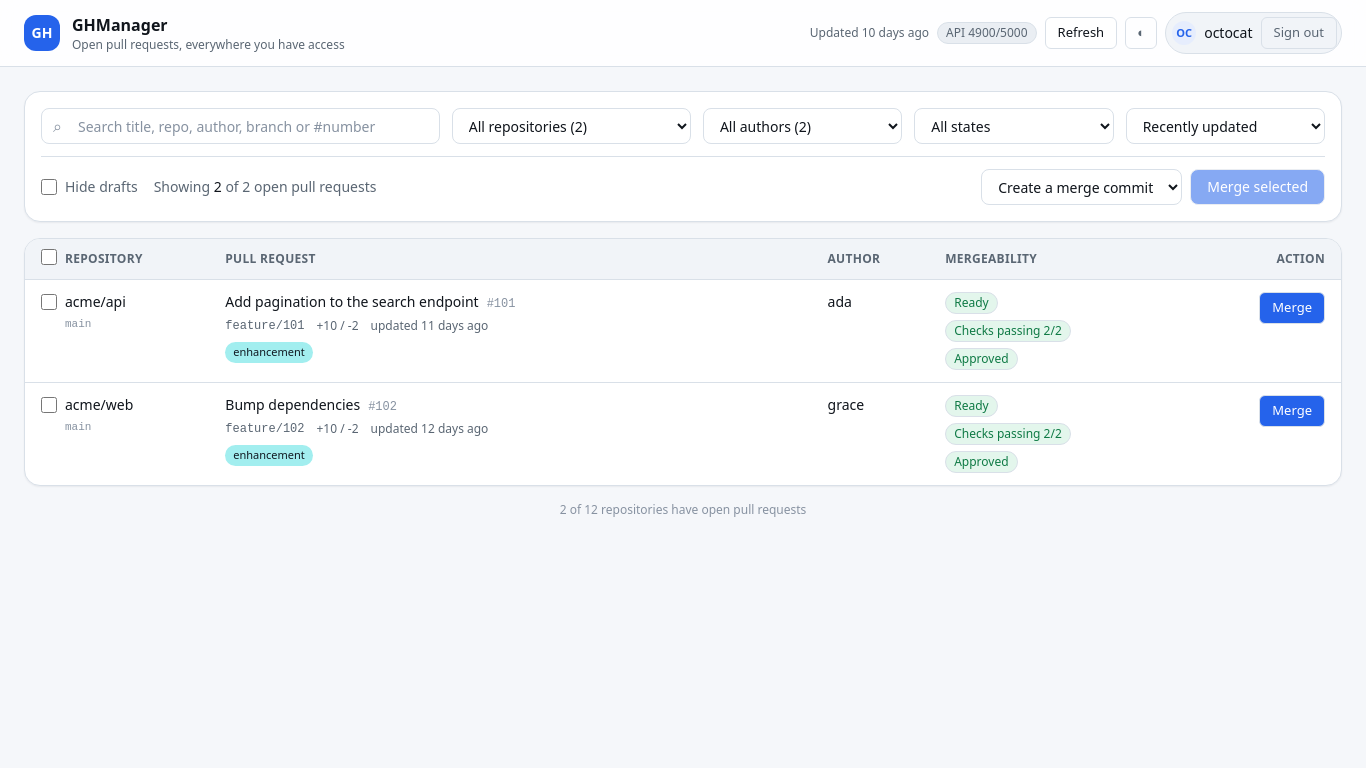
Scenario: Dashboard bulk merge › removes merged rows immediately and keeps them out of a stale refresh
The image size is (1366, 768).
Check: the table is shown, box [25, 239, 1341, 485]
Click the button "Merge" in the row of "acme/api" at (1292, 308), box [1259, 292, 1325, 324]
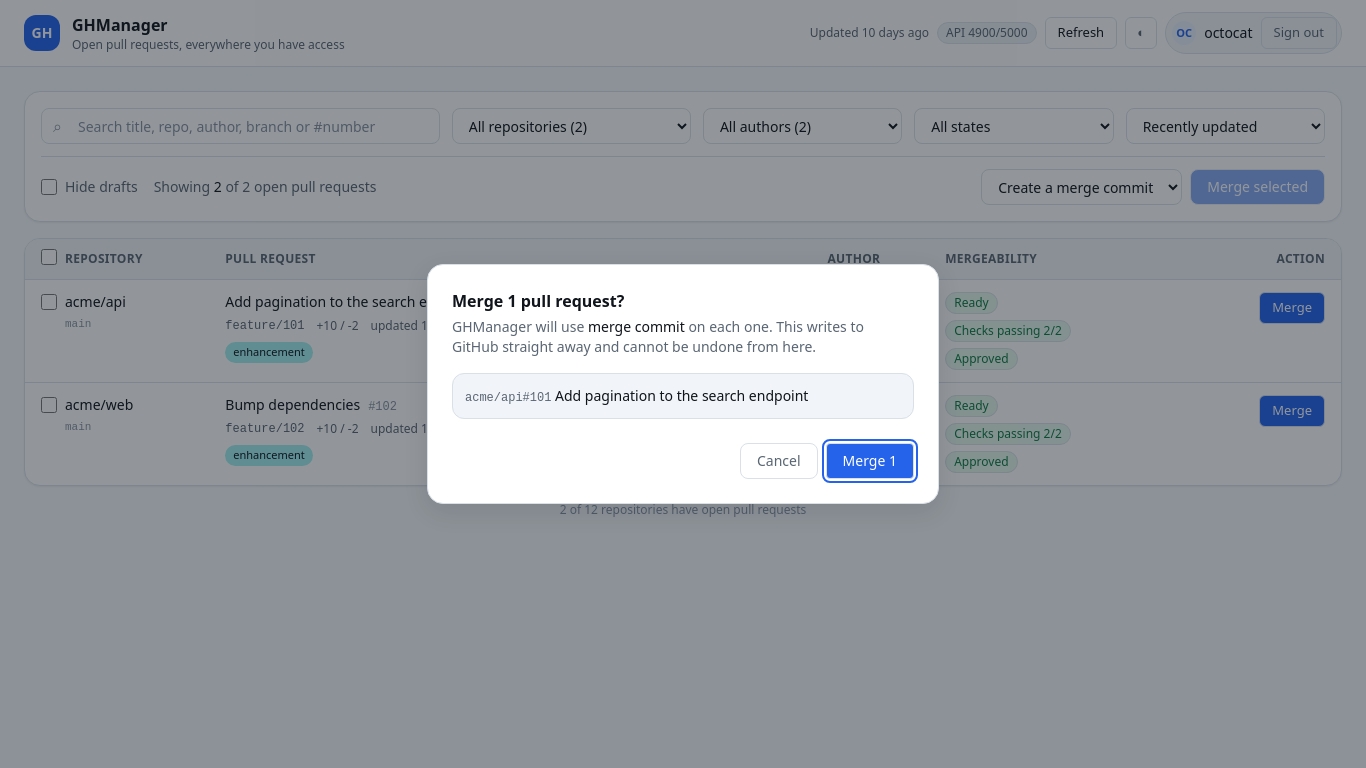
Click the button "Merge 1" at (870, 461), box [826, 443, 914, 479]
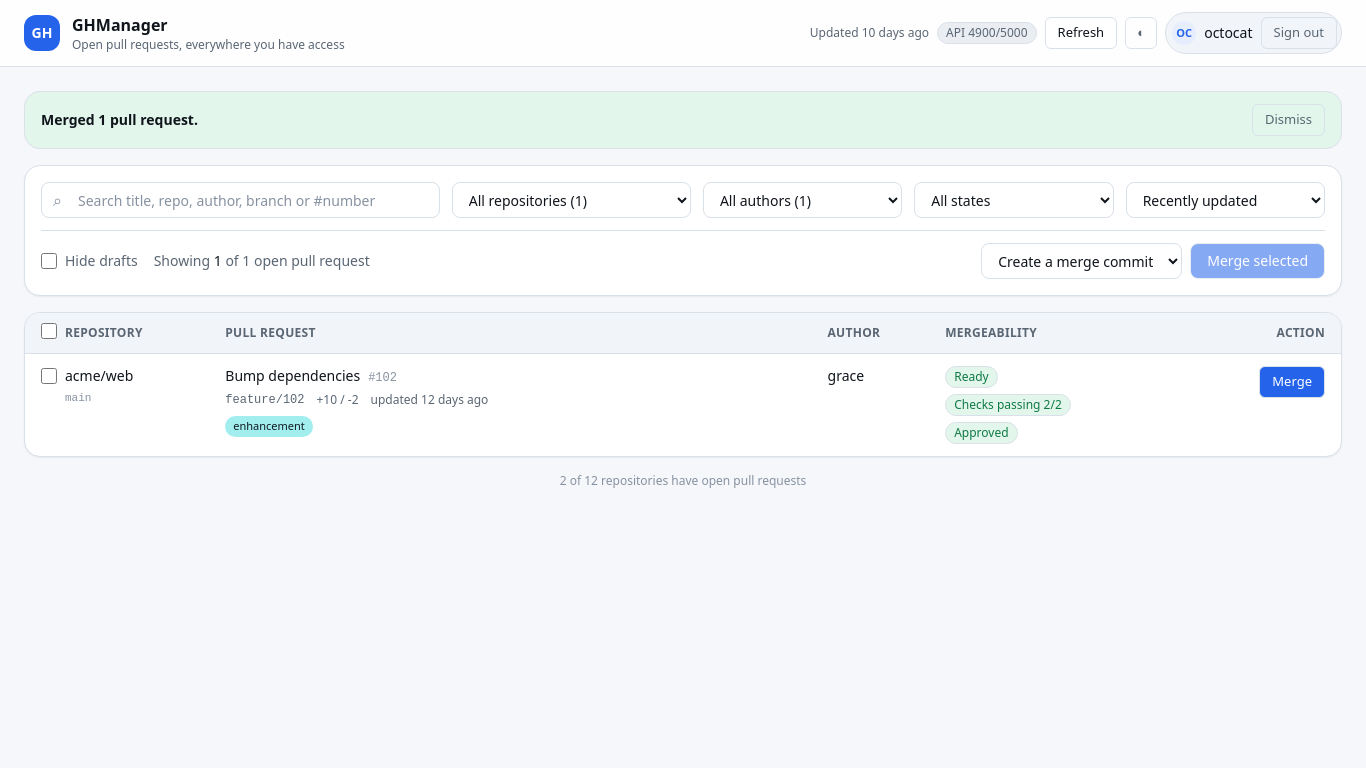
Check: the row with test id "pr-row-pr-ready-2" is shown, box [25, 354, 1341, 456]
Check: the row with test id "pr-row-pr-ready" is gone
Check: the text "Showing 1 of 1 open pull request" is shown, box [154, 251, 370, 271]
